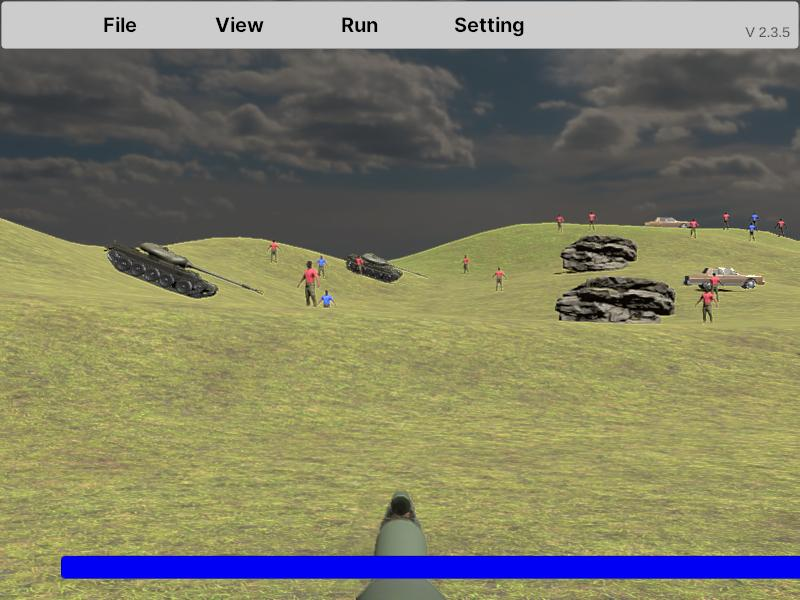Human: (298, 260, 320, 312), (695, 284, 719, 328)
Tank: (102, 242, 264, 300), (346, 252, 427, 283)
car: (683, 265, 765, 291)
